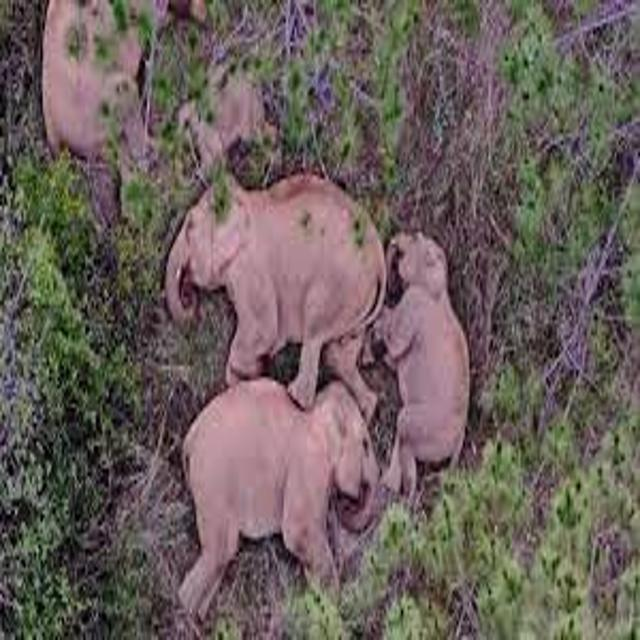elephant: (132, 141, 425, 450), (145, 359, 412, 640), (315, 208, 498, 533)
